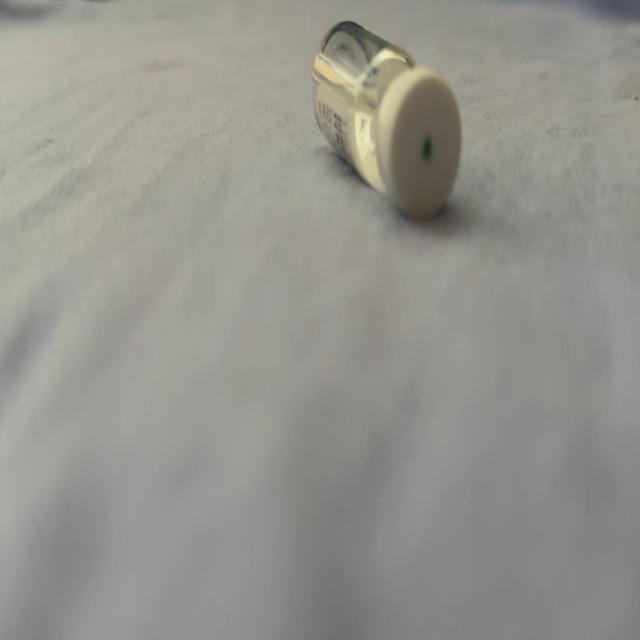fentanl_citrat: (314, 24, 460, 218)
